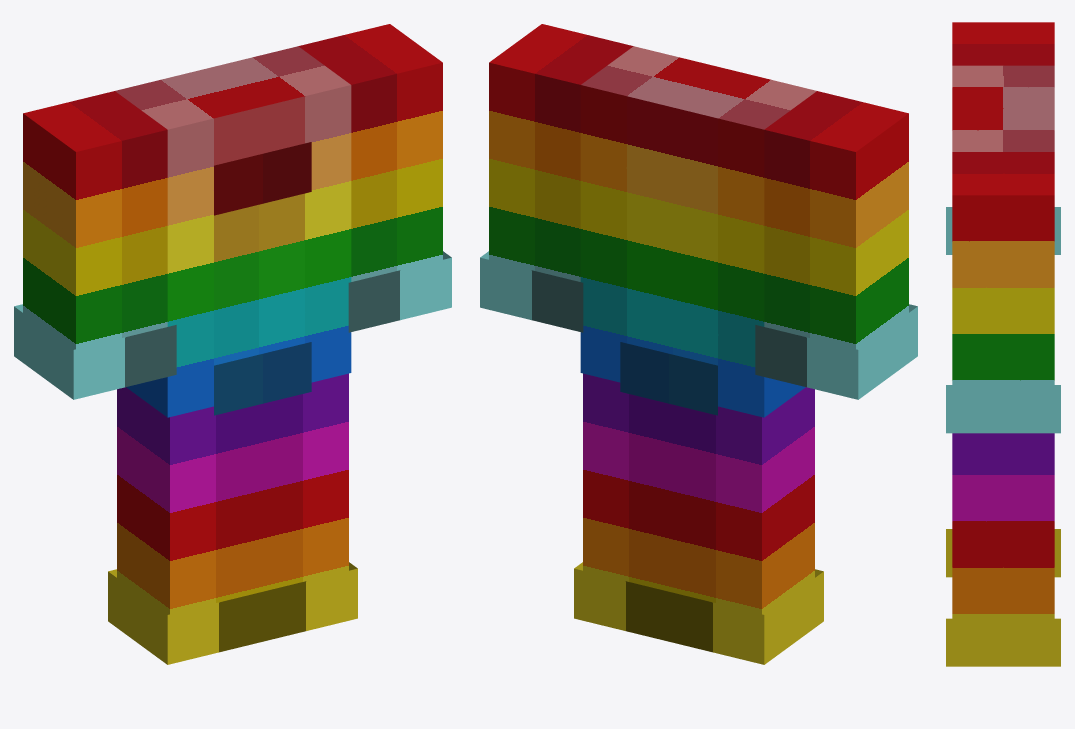
File: sl_rainbow_suit__body.glb
The picture shows the model from 3 angles, left to right: view 1: azimuth 30°, elevation 25°; view 2: azimuth 150°, elevation 25°; view 3: azimuth 270°, elevation 25°; orthographic projection. The views are drawn at different scales.
Visible parts, largest first — view 1: bb_rainbow_suit; view 2: bb_rainbow_suit; view 3: bb_rainbow_suit.
Boxes of the visible parts, box(x1,y1,x2,y2) form: bb_rainbow_suit: box(14, 24, 451, 664); bb_rainbow_suit: box(480, 24, 917, 664); bb_rainbow_suit: box(946, 22, 1060, 666).
Size of the model in its own units: 1.03 by 1.53 by 0.2812.
Materials: 1 (1 with a texture image).
